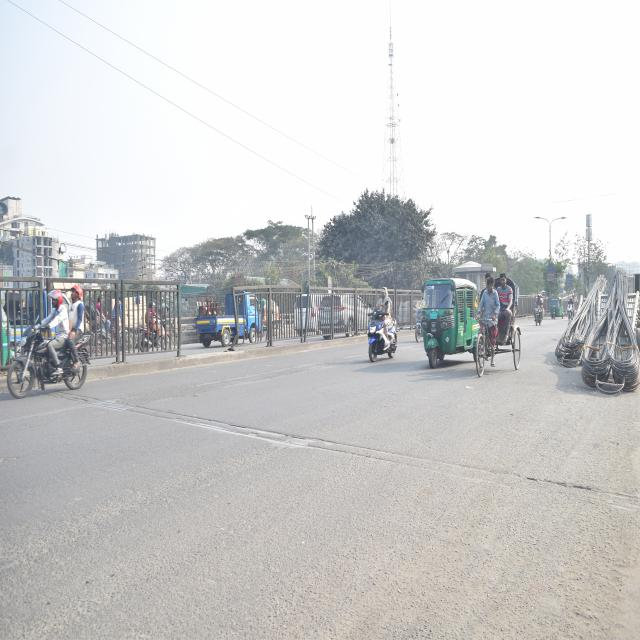motorbike: (4, 303, 95, 403), (362, 298, 401, 364), (530, 293, 547, 330)
pickup-van: (193, 281, 264, 351)
